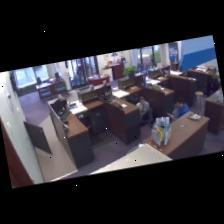person: (136, 97, 152, 127), (168, 98, 188, 120)
